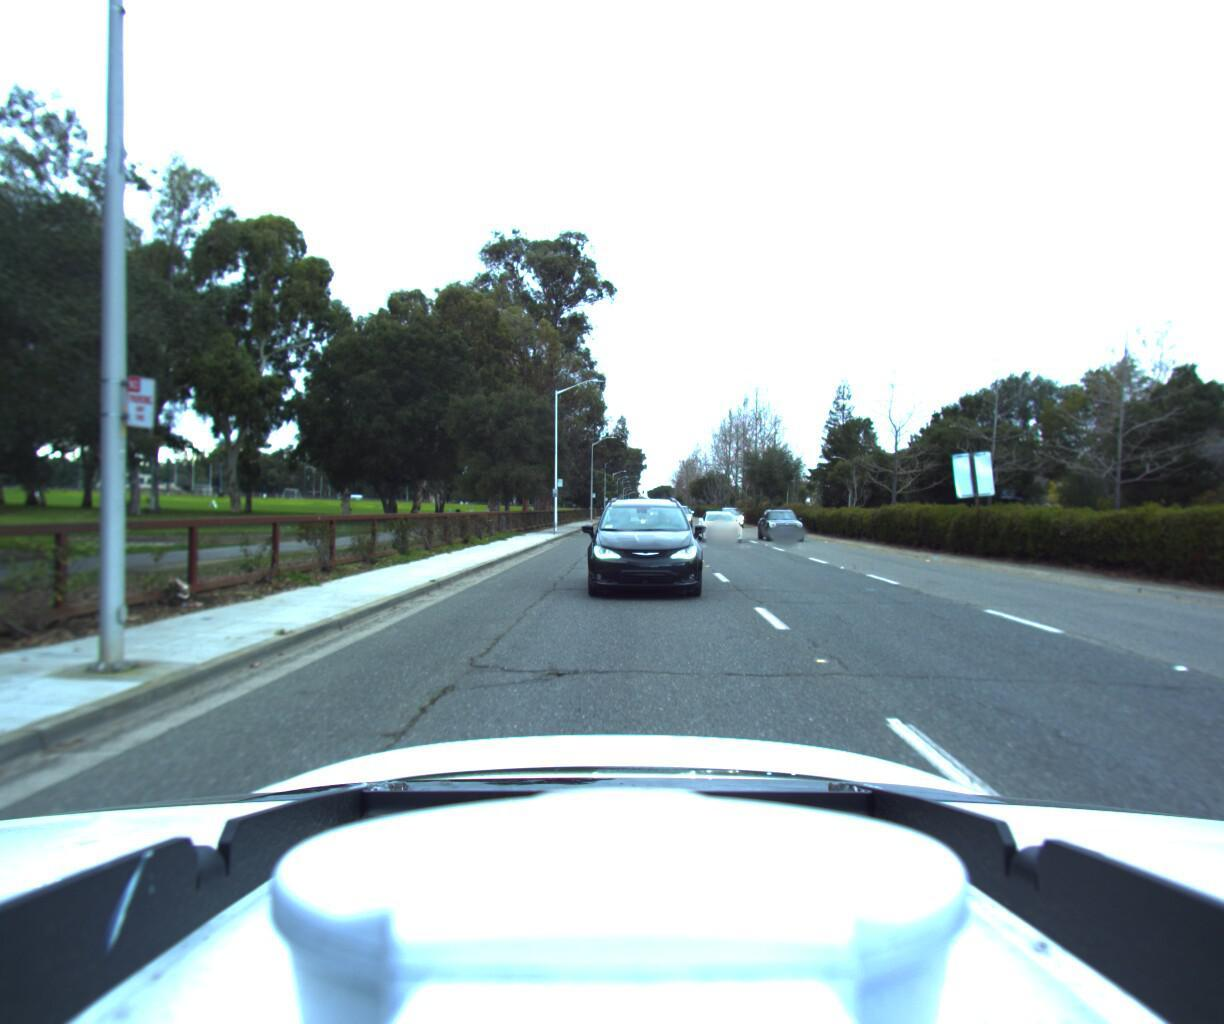car: (587, 493, 702, 599), (757, 505, 814, 540), (698, 507, 749, 543), (665, 502, 695, 527), (718, 504, 750, 526)
